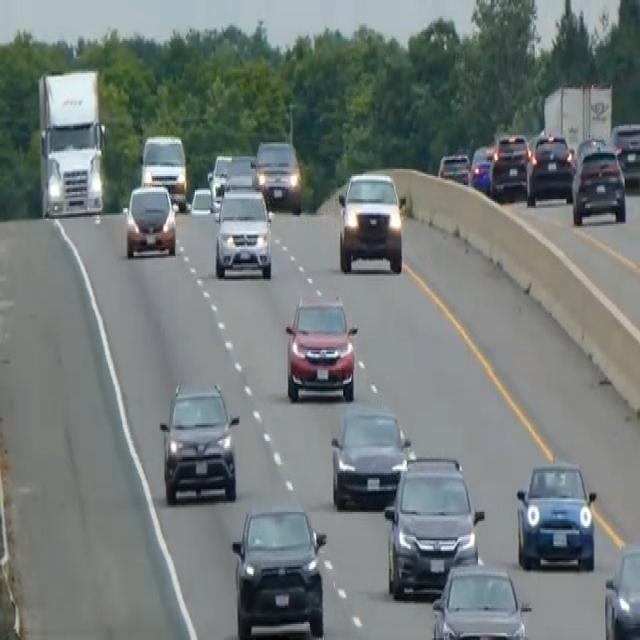car: (383, 453, 484, 598), (230, 503, 327, 638), (158, 379, 240, 505), (515, 458, 597, 570), (329, 404, 411, 508), (284, 293, 358, 402), (430, 560, 531, 638), (336, 169, 406, 274), (213, 185, 273, 279), (571, 142, 626, 226), (123, 181, 177, 258), (139, 132, 188, 210), (253, 137, 302, 213), (525, 132, 574, 206), (603, 539, 639, 638), (489, 131, 530, 201), (610, 119, 639, 185), (206, 151, 232, 208), (468, 142, 495, 194), (223, 153, 258, 192), (437, 149, 470, 185)
lorry: (35, 64, 108, 220)
